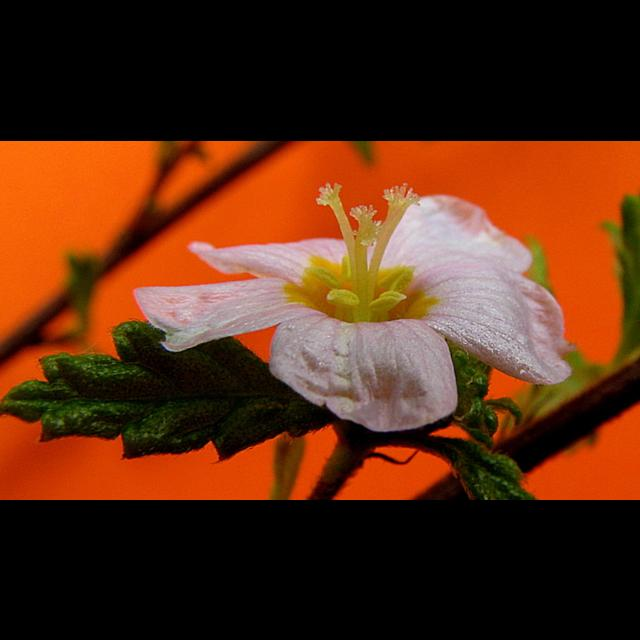Flower: (135, 182, 567, 430)
